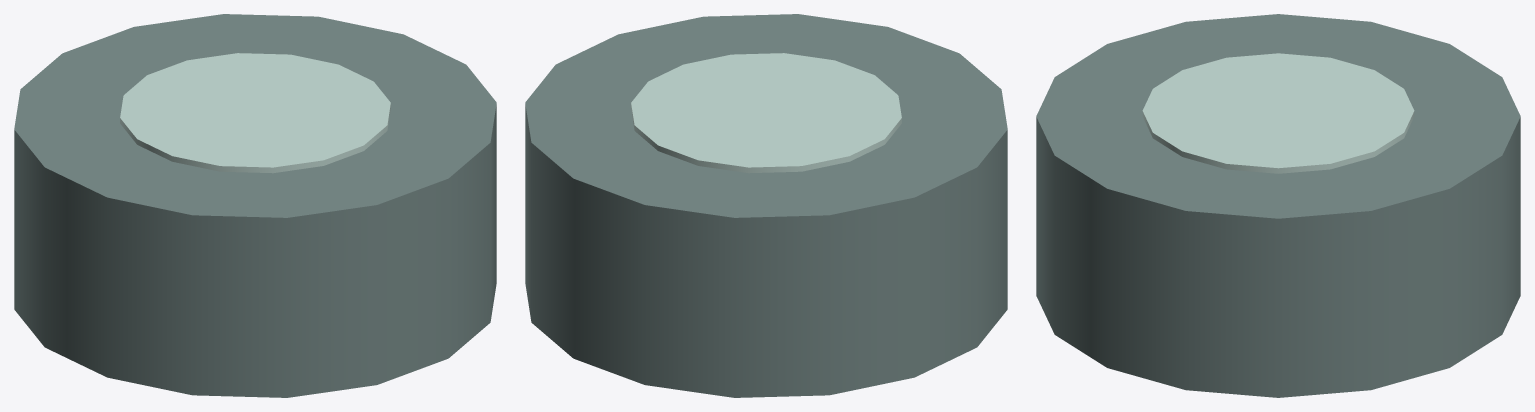
Rendered from wheel_eco.glb.
3 renders of one model, left to right at view 1: azimuth 30°, elevation 25°; view 2: azimuth 150°, elevation 25°; view 3: azimuth 270°, elevation 25°, orthographic.
Parts seen in each view (by area): view 1: wheel, hub; view 2: wheel, hub; view 3: wheel, hub.
Part boxes in pixels (left/top/right/bottom): wheel: left=14, top=14, right=496, bottom=397; hub: left=120, top=53, right=390, bottom=173; wheel: left=525, top=14, right=1007, bottom=397; hub: left=631, top=53, right=901, bottom=173; wheel: left=1036, top=14, right=1520, bottom=397; hub: left=1142, top=53, right=1414, bottom=173.
Size of the model in its own units: 0.196 by 0.085 by 0.196.
